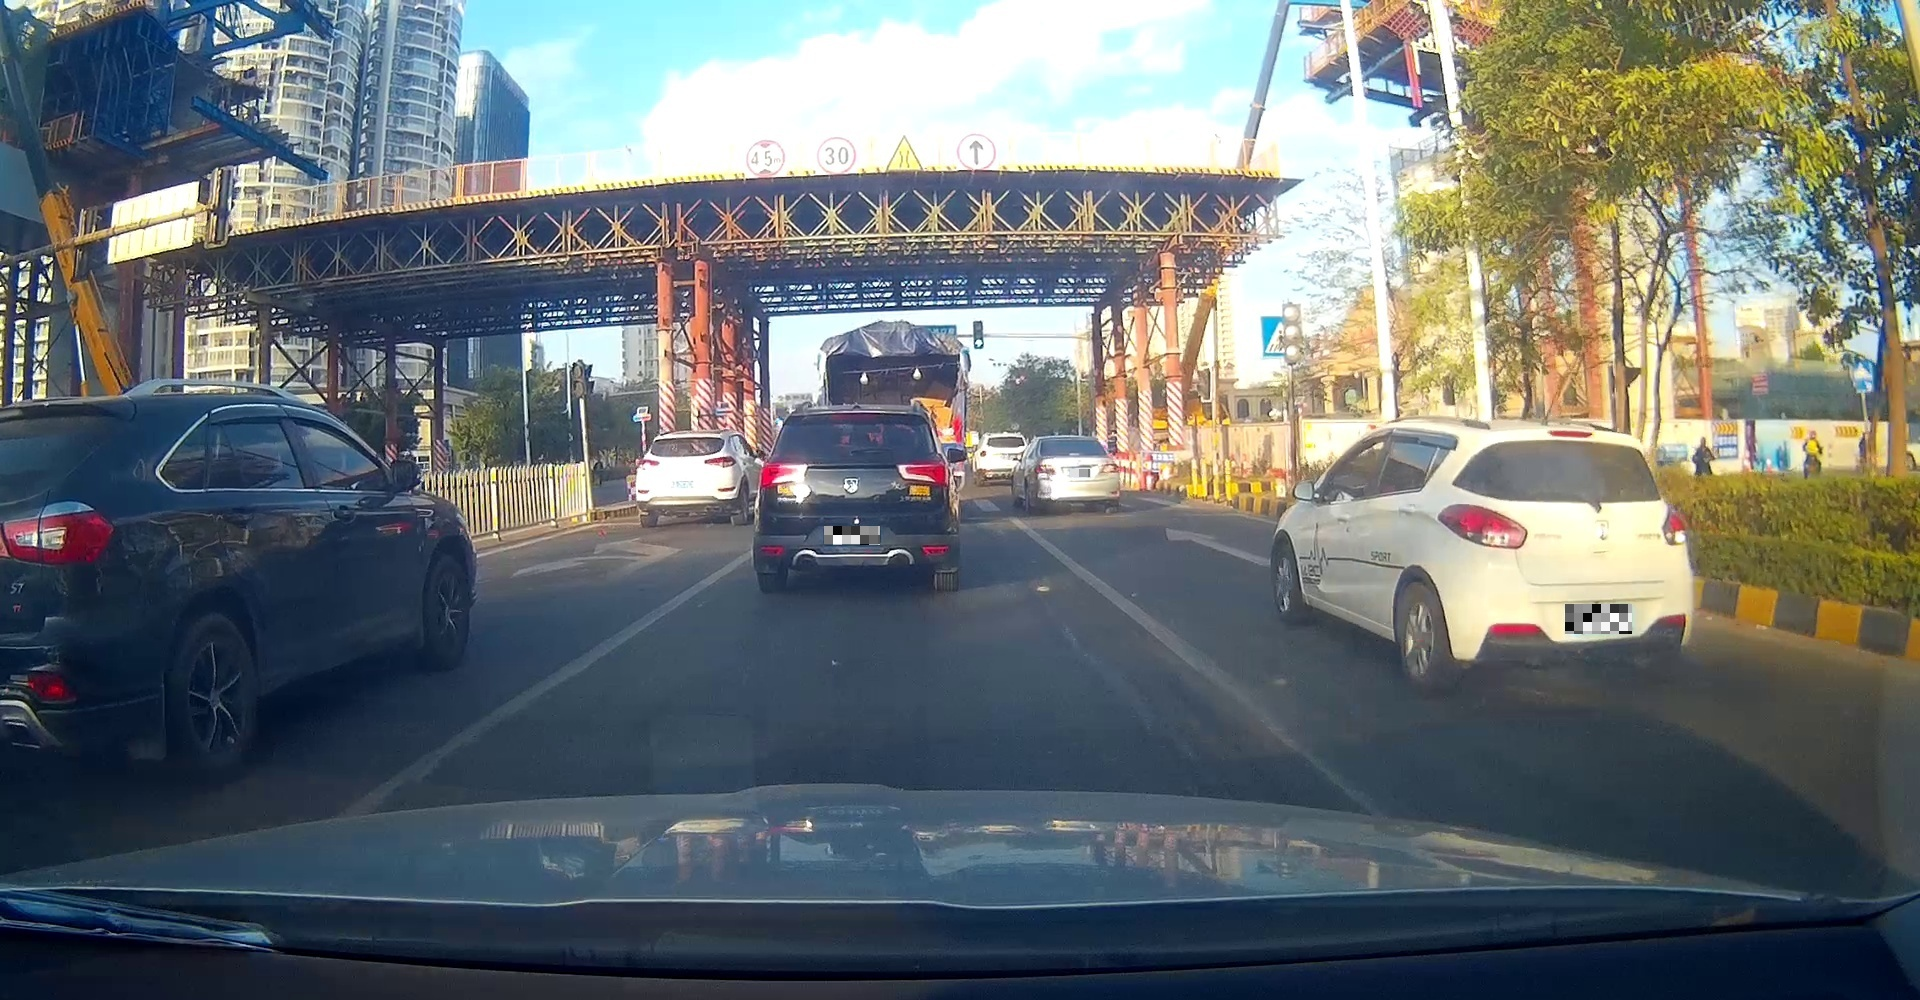L_light: (1437, 503, 1528, 549), (757, 462, 808, 490), (637, 459, 660, 471), (1032, 464, 1057, 475)
R_light: (894, 461, 950, 489), (1661, 504, 1686, 546), (703, 456, 737, 468), (1098, 463, 1119, 473)
T_light: (1545, 428, 1594, 439), (830, 410, 877, 420), (679, 437, 695, 440), (1068, 452, 1082, 456)
day-no: (1436, 426, 1691, 695), (756, 405, 952, 593), (636, 431, 738, 528), (1032, 434, 1119, 514)
plate_1: (824, 525, 880, 544)
plate_2: (1070, 470, 1090, 477)
plate_3: (1564, 604, 1632, 635)
